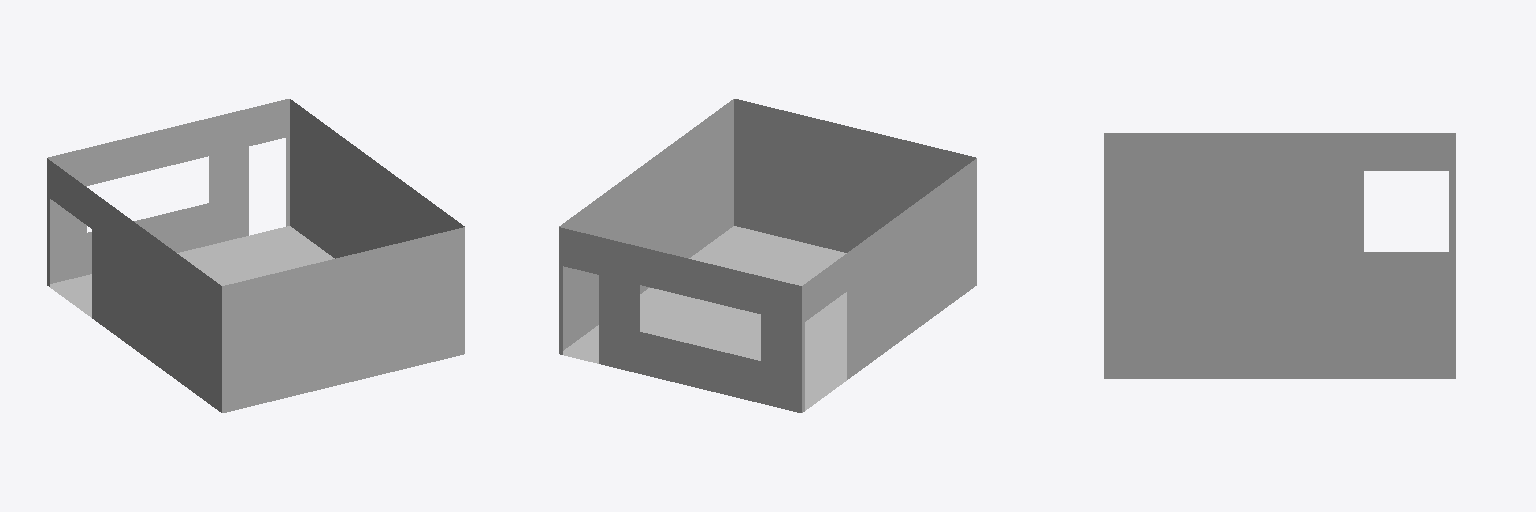
The model's file is Room1_cut.obj.
The picture shows the model from 3 angles: view 1: azimuth 30°, elevation 25°; view 2: azimuth 150°, elevation 25°; view 3: azimuth 270°, elevation 25°; orthographic projection.
Visible parts, largest first — view 1: Room1_cut; view 2: Room1_cut; view 3: Room1_cut.
Boxes of the visible parts, x1,y1,x2,y2 form: Room1_cut: [47, 99, 464, 412]; Room1_cut: [559, 99, 976, 412]; Room1_cut: [1104, 133, 1455, 378].
Size of the model in its own units: 60 by 30 by 75.